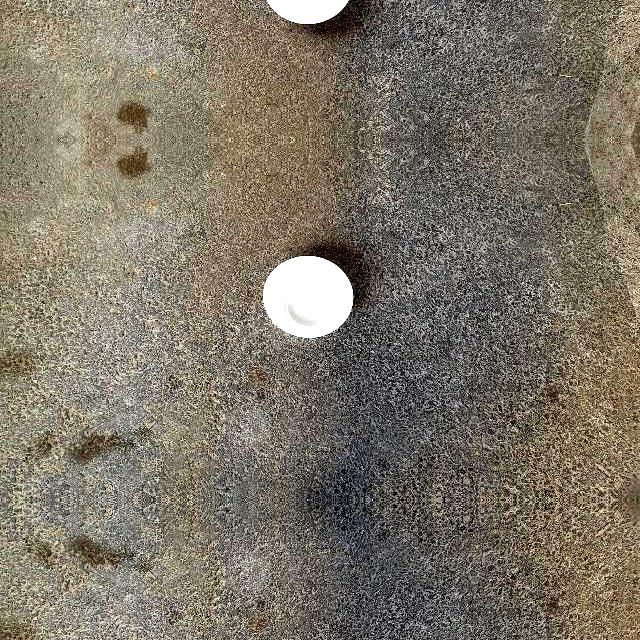Styrofoam: (262, 255, 354, 338), (263, 256, 353, 337), (262, 0, 353, 24), (267, 0, 349, 24)
